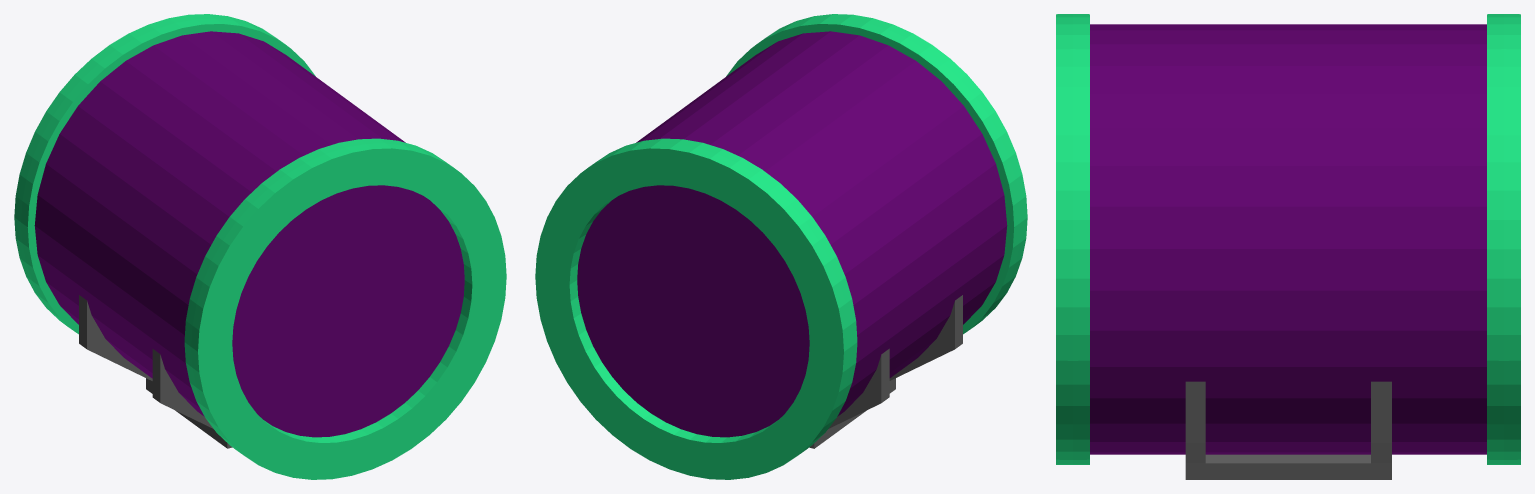
File: tube attached.fbx
3 views of the same model, side by side, from view 1: azimuth 30°, elevation 25°; view 2: azimuth 150°, elevation 25°; view 3: azimuth 270°, elevation 25° (orthographic). The views are drawn at different scales.
Visible parts, largest first — view 1: Cylinder.001, Torus, Torus.001, block; view 2: Cylinder.001, Torus.001, Torus, block; view 3: Cylinder.001, Torus, Torus.001, block.
Boxes of the visible parts, x1,y1,x2,y2 form: Cylinder.001: (34, 31, 464, 437); Torus: (184, 138, 506, 479); Torus.001: (14, 14, 315, 334); block: (79, 295, 232, 448); Cylinder.001: (577, 31, 1007, 437); Torus.001: (535, 138, 857, 479); Torus: (726, 14, 1027, 334); block: (809, 295, 962, 448); Cylinder.001: (1090, 24, 1486, 454); Torus: (1056, 14, 1089, 464); Torus.001: (1487, 14, 1520, 464); block: (1185, 381, 1391, 479).
Bounding box in the file's own units: 105 × 105 × 108.
